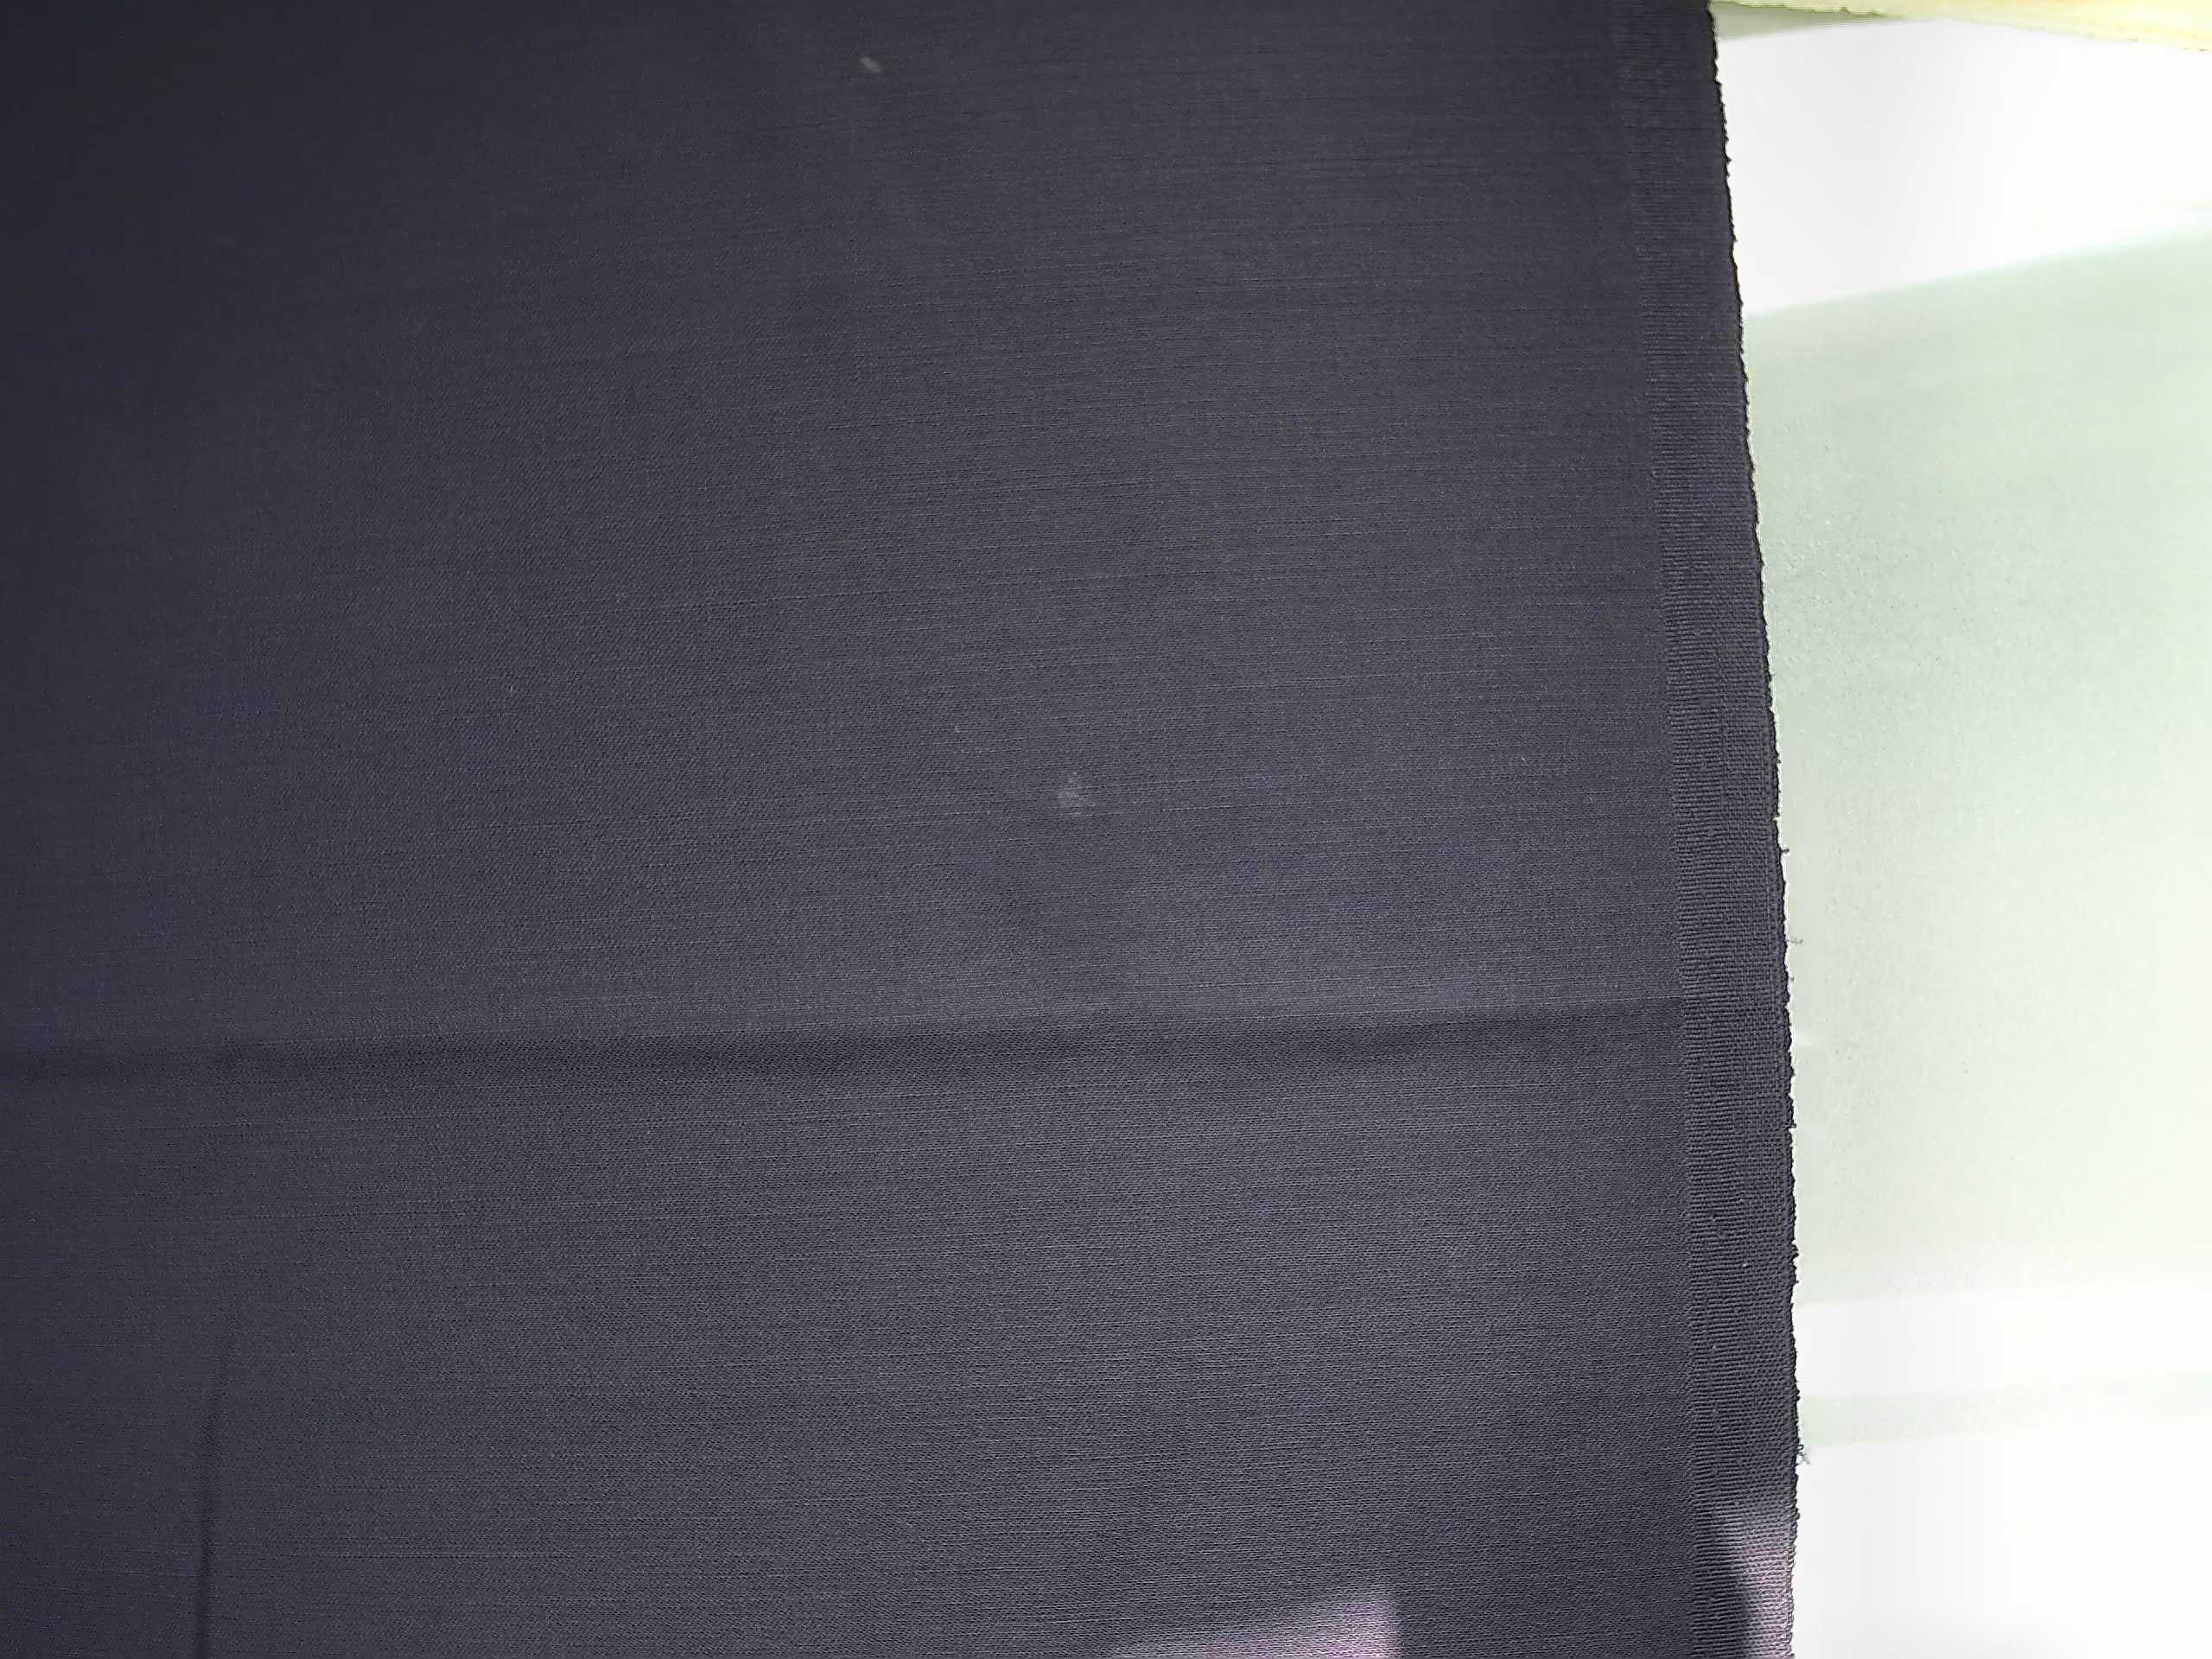stains: (134, 353, 1669, 712), (976, 762, 1157, 1009)
